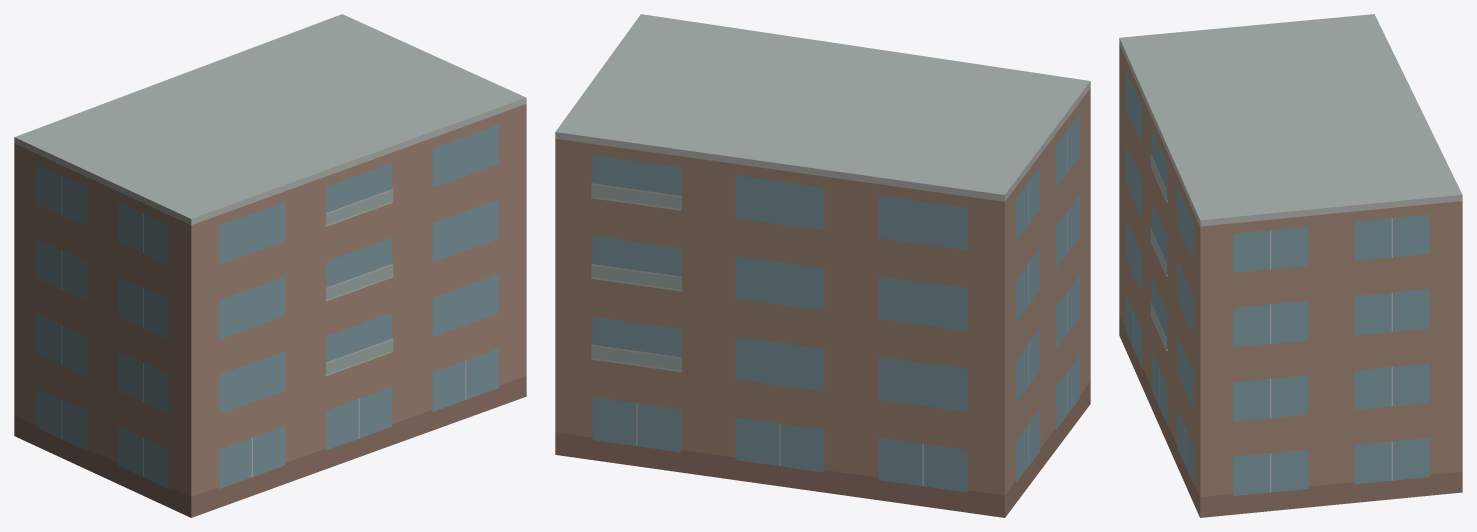
Rendered from survey-upis-33042786.glb.
The picture shows the model from 3 angles, left to right: view 1: azimuth 30°, elevation 25°; view 2: azimuth 150°, elevation 25°; view 3: azimuth 270°, elevation 25°; orthographic projection. The views are drawn at different scales.
Visible parts, largest first — view 1: survey-upis-33042786.tmp; view 2: survey-upis-33042786.tmp; view 3: survey-upis-33042786.tmp.
Part boxes in pixels (box(x1,y1,x2,y2)): survey-upis-33042786.tmp: box(14, 14, 526, 517); survey-upis-33042786.tmp: box(555, 14, 1090, 517); survey-upis-33042786.tmp: box(1119, 14, 1462, 517).
Size of the model in its own units: 17.41 by 11.7 by 12.24.
